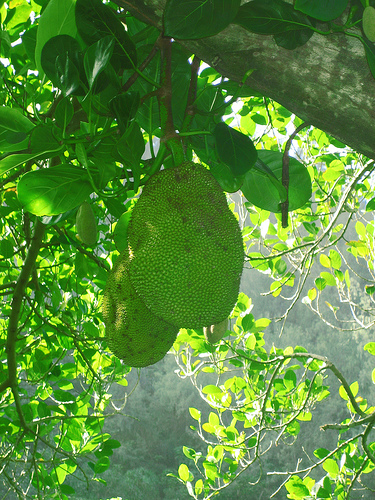jackfruit: (126, 161, 242, 325), (100, 257, 180, 371)
